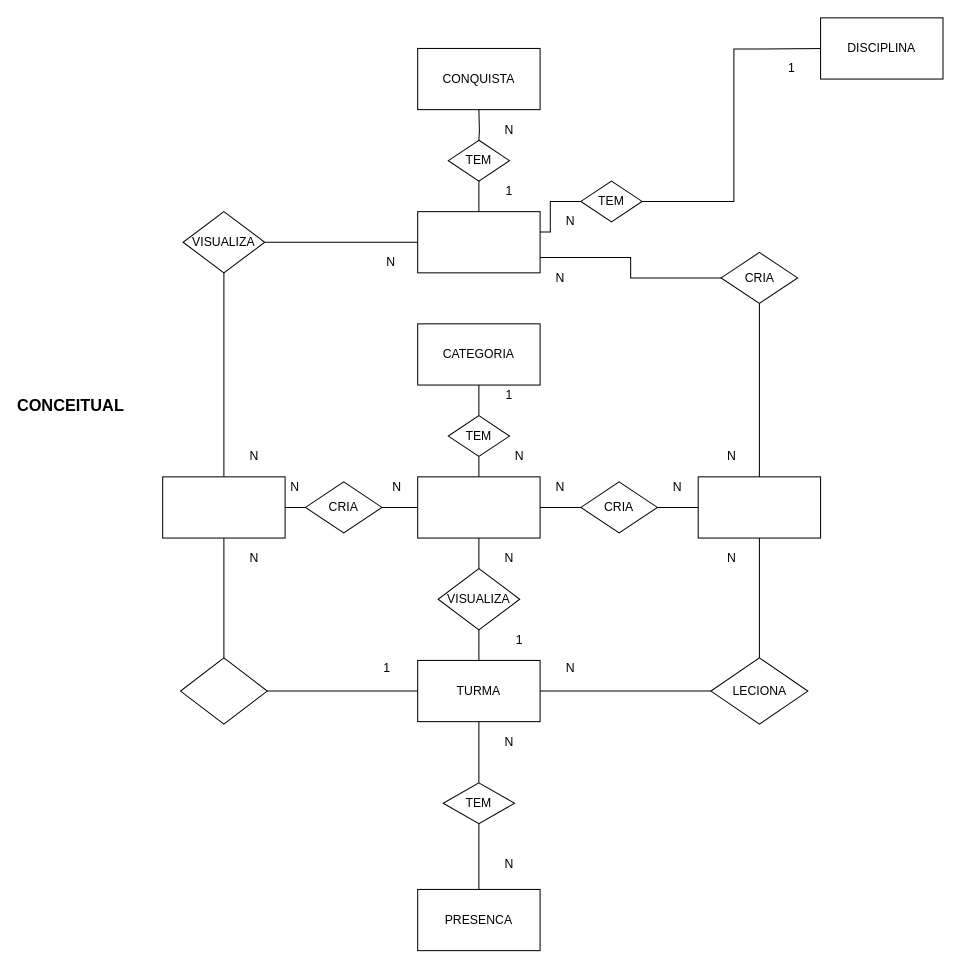
This 961x969 diagram has some shape labels left out. The centre of each missing label's shape, as x and y in pixels:
"ALUNO" goes at point 223,507.
"OBJETIVO" goes at point 478,242.
"PERTENCE" goes at point 223,690.
"POST" goes at point 478,507.
"PROFESSOR" goes at point 759,507.
